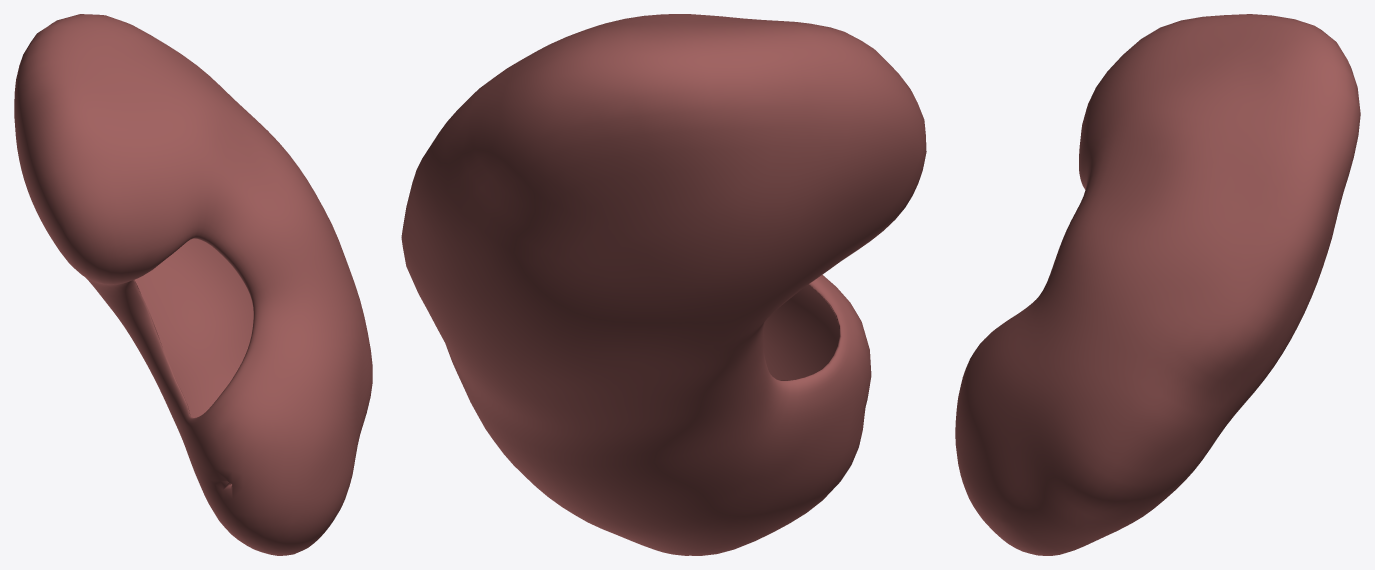
Rendered from 3d-vh-m-kidney-l.glb.
The picture shows the model from 3 angles, left to right: view 1: azimuth 30°, elevation 25°; view 2: azimuth 150°, elevation 25°; view 3: azimuth 270°, elevation 25°; orthographic projection. The views are drawn at different scales.
Parts seen in each view (by area): view 1: VH_M_kidney_capsule_L; view 2: VH_M_kidney_capsule_L; view 3: VH_M_kidney_capsule_L.
Part boxes in pixels (x1=…): VH_M_kidney_capsule_L: x1=14, y1=14, x2=372, y2=555; VH_M_kidney_capsule_L: x1=401, y1=14, x2=926, y2=555; VH_M_kidney_capsule_L: x1=955, y1=14, x2=1360, y2=555.
Size of the model in its own units: 0.0757 by 0.1065 by 0.0824.
